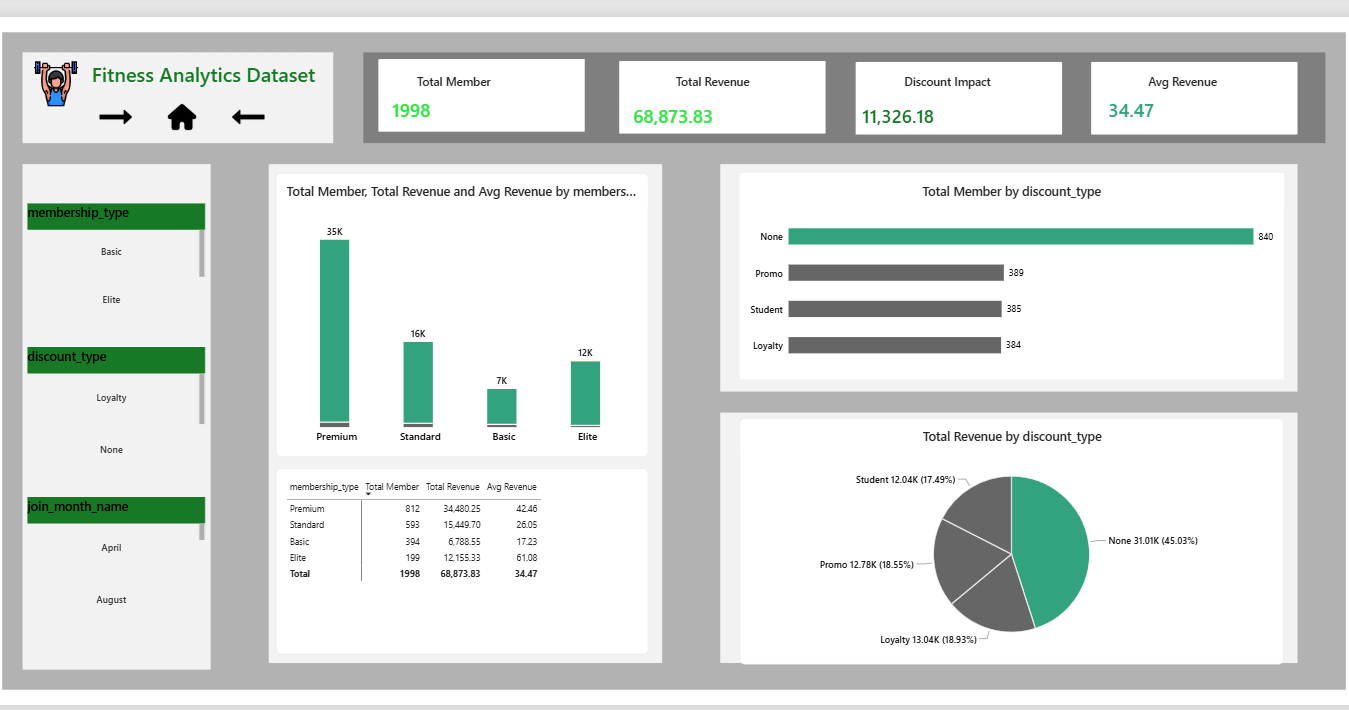

Layout of this report page (visuals, bound fields, positions):
{"tool":"powerbi","page":{"name":"Page 2","canvas":[2200,1100],"ordinal":2},"visuals":[{"type":"barChart","fields":{"Category":["Fitness_Membership_Analytics_Dataset.discount_type"],"Y":["All Measure.Total Member"]},"box":[1205.1,249.8,869.4,329.8],"z":0},{"type":"pieChart","fields":{"Category":["Fitness_Membership_Analytics_Dataset.discount_type"],"Y":["All Measure.Total Revenue"]},"box":[1205.1,641.5,869.4,393.7],"z":1000},{"type":"ribbonChart","fields":{"Category":["Fitness_Membership_Analytics_Dataset.membership_type"],"Y":["All Measure.Total Member","All Measure.Total Revenue","All Measure.Avg Revenue"]},"box":[463.7,249.8,595.6,453.7],"z":2000},{"type":"pivotTable","fields":{"Rows":["Fitness_Membership_Analytics_Dataset.membership_type"],"Values":["All Measure.Total Member","All Measure.Total Revenue","All Measure.Avg Revenue"]},"box":[463.7,721.5,595.6,297.8],"z":3000},{"type":"textbox","box":[660.4,89.6,176.9,40.1],"z":4000},{"type":"textbox","box":[1073.2,89.9,176.9,40.1],"z":5000},{"type":"textbox","box":[1824.7,89.9,176.9,40.1],"z":6000},{"type":"cardVisual","fields":{"Data":["All Measure.Total Member"]},"box":[629.5,109.9,101.9,75.9],"z":7000},{"type":"cardVisual","fields":{"Data":["All Measure.Total Revenue"]},"box":[1009.3,129.9,179.9,52],"z":8000},{"type":"textbox","box":[1449,89.9,176.9,40.1],"z":9000},{"type":"cardVisual","fields":{"Data":["All Measure.Discount Impact"]},"box":[1385,129.9,151.9,56],"z":10000},{"type":"cardVisual","fields":{"Data":["All Measure.Avg Revenue"]},"box":[1778.7,119.9,151.9,56],"z":11000},{"type":"advancedSlicerVisual","fields":{"Values":["Fitness_Membership_Analytics_Dataset.membership_type"]},"box":[66,297.8,283.8,189.9],"z":12000},{"type":"advancedSlicerVisual","fields":{"Values":["Fitness_Membership_Analytics_Dataset.discount_type"]},"box":[66,527.6,283.8,201.9],"z":13000},{"type":"advancedSlicerVisual","fields":{"Values":["Fitness_Membership_Analytics_Dataset.join_month_name"]},"box":[66,767.4,283.8,201.9],"z":14000},{"type":"textbox","box":[147.9,69.9,399.7,60],"z":15000},{"type":"image","box":[277.8,133.9,71.9,52],"z":16000},{"type":"image","box":[383.7,133.9,71.9,52],"z":17000},{"type":"image","box":[171.9,133.9,71.9,52],"z":18000},{"type":"image","box":[75.9,58,71.9,97.9],"z":19000}]}

Visuals, with their boxes on the page's 2200x1100 design canvas (x1, y1, x2, y2). These are canvas units, not pixel positions in the 1349x710 screenshot, which may show the page scaled, cropped or inside an application window:
barChart - Fitness_Membership_Analytics_Dataset.discount_type x All Measure.Total Member: x1=1205, y1=250, x2=2074, y2=580
pieChart - Fitness_Membership_Analytics_Dataset.discount_type x All Measure.Total Revenue: x1=1205, y1=642, x2=2074, y2=1035
ribbonChart - Fitness_Membership_Analytics_Dataset.membership_type x All Measure.Total Member: x1=464, y1=250, x2=1059, y2=704
pivotTable - Fitness_Membership_Analytics_Dataset.membership_type x All Measure.Total Member: x1=464, y1=722, x2=1059, y2=1019
textbox: x1=660, y1=90, x2=837, y2=130
textbox: x1=1073, y1=90, x2=1250, y2=130
textbox: x1=1825, y1=90, x2=2002, y2=130
cardVisual - All Measure.Total Member: x1=630, y1=110, x2=731, y2=186
cardVisual - All Measure.Total Revenue: x1=1009, y1=130, x2=1189, y2=182
textbox: x1=1449, y1=90, x2=1626, y2=130
cardVisual - All Measure.Discount Impact: x1=1385, y1=130, x2=1537, y2=186
cardVisual - All Measure.Avg Revenue: x1=1779, y1=120, x2=1931, y2=176
advancedSlicerVisual - Fitness_Membership_Analytics_Dataset.membership_type: x1=66, y1=298, x2=350, y2=488
advancedSlicerVisual - Fitness_Membership_Analytics_Dataset.discount_type: x1=66, y1=528, x2=350, y2=730
advancedSlicerVisual - Fitness_Membership_Analytics_Dataset.join_month_name: x1=66, y1=767, x2=350, y2=969
textbox: x1=148, y1=70, x2=548, y2=130
image: x1=278, y1=134, x2=350, y2=186
image: x1=384, y1=134, x2=456, y2=186
image: x1=172, y1=134, x2=244, y2=186
image: x1=76, y1=58, x2=148, y2=156
